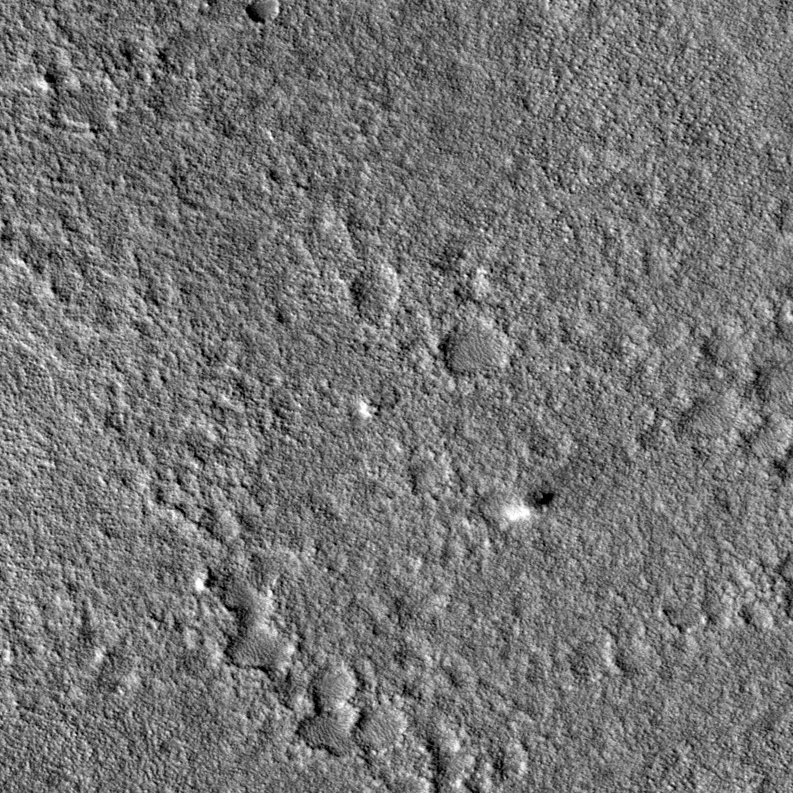dust_devil: (501, 485, 558, 525)
